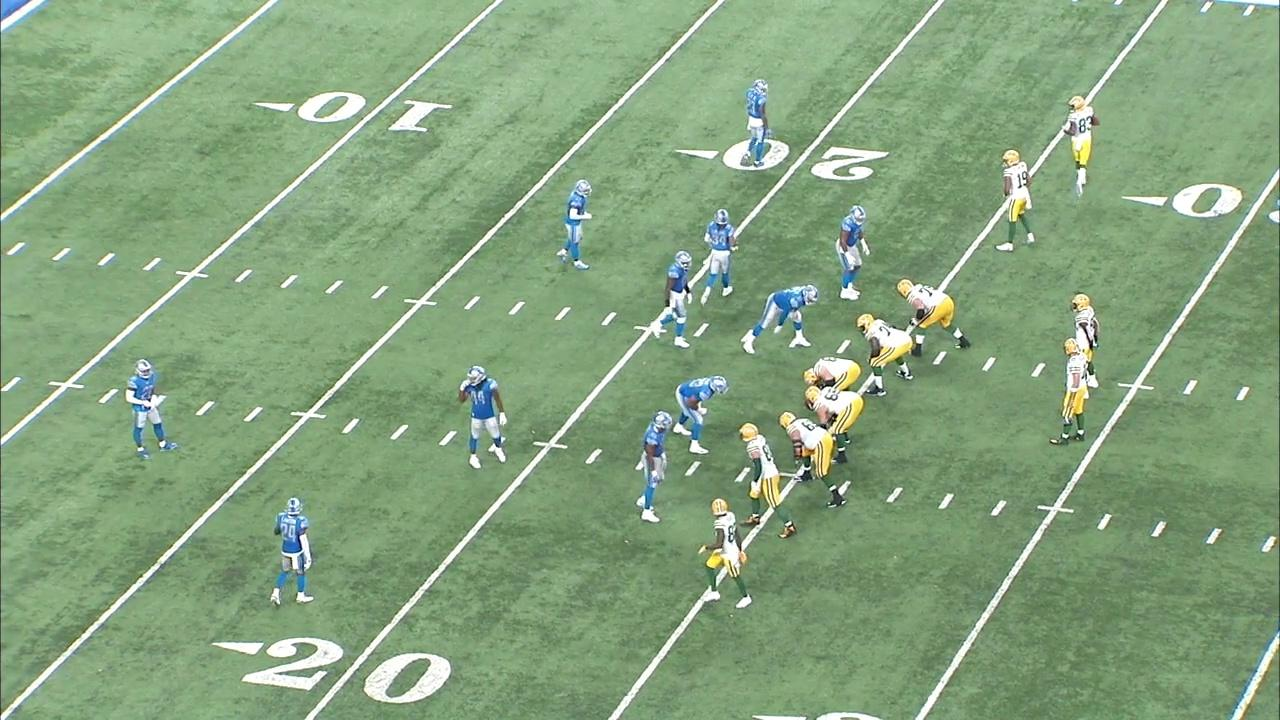player: (736, 419, 801, 543), (778, 410, 850, 513), (263, 495, 321, 617), (695, 495, 755, 610), (123, 352, 181, 467), (893, 278, 975, 359), (738, 282, 824, 359), (453, 364, 511, 474), (855, 311, 918, 400), (803, 383, 866, 468), (670, 372, 732, 458), (632, 408, 674, 529), (646, 249, 695, 352), (1047, 336, 1091, 449), (698, 206, 746, 308), (1059, 93, 1102, 201), (829, 202, 872, 303), (998, 146, 1037, 257), (555, 177, 599, 271), (1068, 291, 1102, 402), (740, 74, 774, 168), (798, 355, 862, 393)
